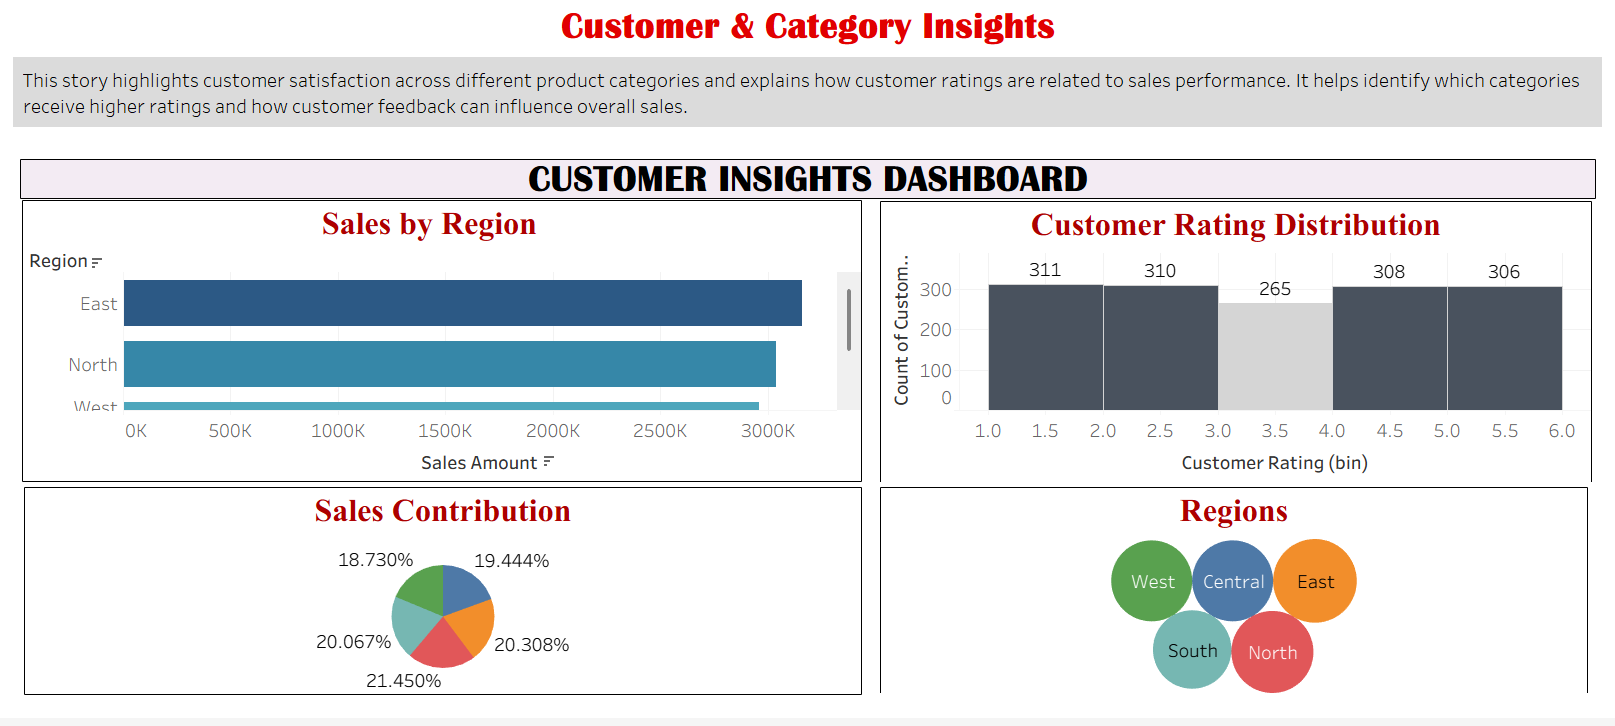

Layout of this report page (visuals, bound fields, positions):
{"tool":"tableau","page":{"name":"Dashboard 2","canvas":[1000,1000],"units":"permille","ordinal":1},"visuals":[{"type":"title","box":[5,10.7,990,64.3]},{"type":"worksheet","title":"Customer_Rating_Analysis","mark":"Automatic","rows":["Customer_Rating"],"cols":["Customer Rating (bin)"],"box":[540.5,89.8,445.1,500]},{"type":"worksheet","title":"Sales_by_Region","mark":"Automatic","rows":["Region"],"cols":["Sales_Amount"],"box":[9,93.8,524.9,501.3]},{"type":"worksheet","title":"Sales_Contribution","mark":"Pie","box":[10.2,604.6,523.7,368.6]},{"type":"worksheet","title":"Regions","mark":"Circle","box":[540.5,604.6,442.6,367.3]}]}

Visuals, with their boxes on the dashboard's canvas, which has no fixed pixel size, in thousandths of its width and height (x1, y1, x2, y2). These are canvas units, not pixel positions in the 1615x726 screenshot, which may show the page scaled, cropped or inside an application window:
title: (left=5, top=11, right=995, bottom=75)
"Customer_Rating_Analysis" worksheet: (left=540, top=90, right=986, bottom=590)
"Sales_by_Region" worksheet: (left=9, top=94, right=534, bottom=595)
"Sales_Contribution" worksheet (Pie marks): (left=10, top=605, right=534, bottom=973)
"Regions" worksheet (Circle marks): (left=540, top=605, right=983, bottom=972)
